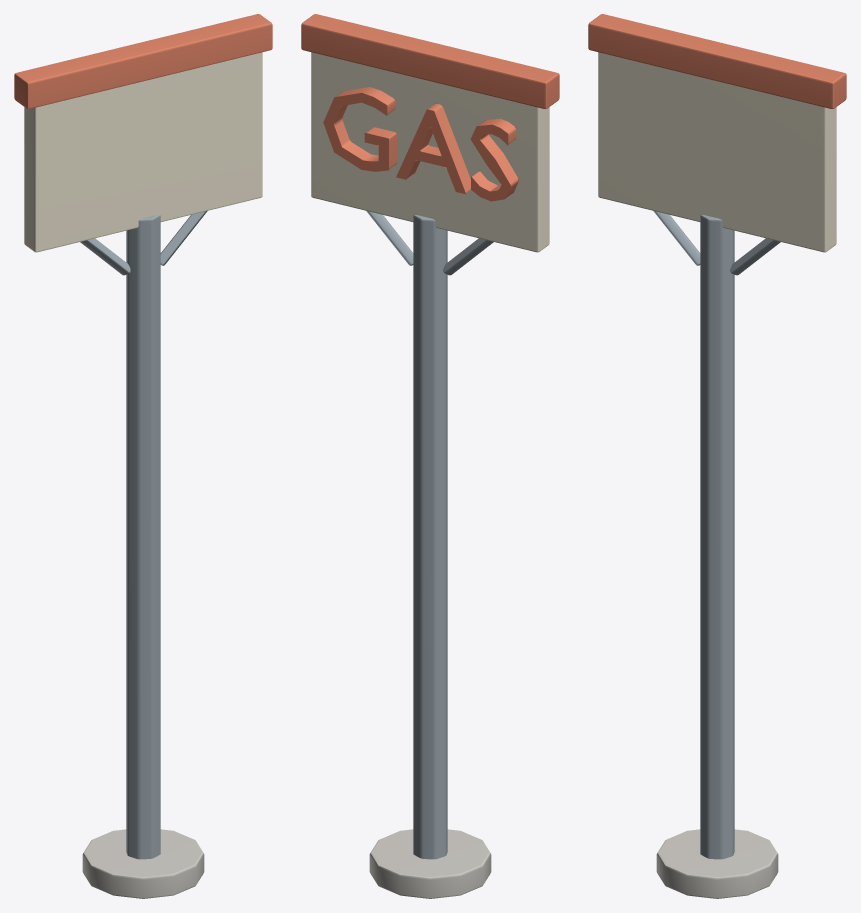
Rendered from gas_billboard.glb.
The picture shows the model from 3 angles, left to right: view 1: azimuth 30°, elevation 25°; view 2: azimuth 150°, elevation 25°; view 3: azimuth 330°, elevation 25°; orthographic projection.
Parts seen in each view (by area): view 1: gas_billboard; view 2: gas_billboard; view 3: gas_billboard.
Part boxes in pixels (x1=…): gas_billboard: x1=14, y1=14, x2=272, y2=898; gas_billboard: x1=301, y1=14, x2=559, y2=898; gas_billboard: x1=588, y1=14, x2=846, y2=898.
Size of the model in its own units: 1.4 by 4.49 by 0.6.
